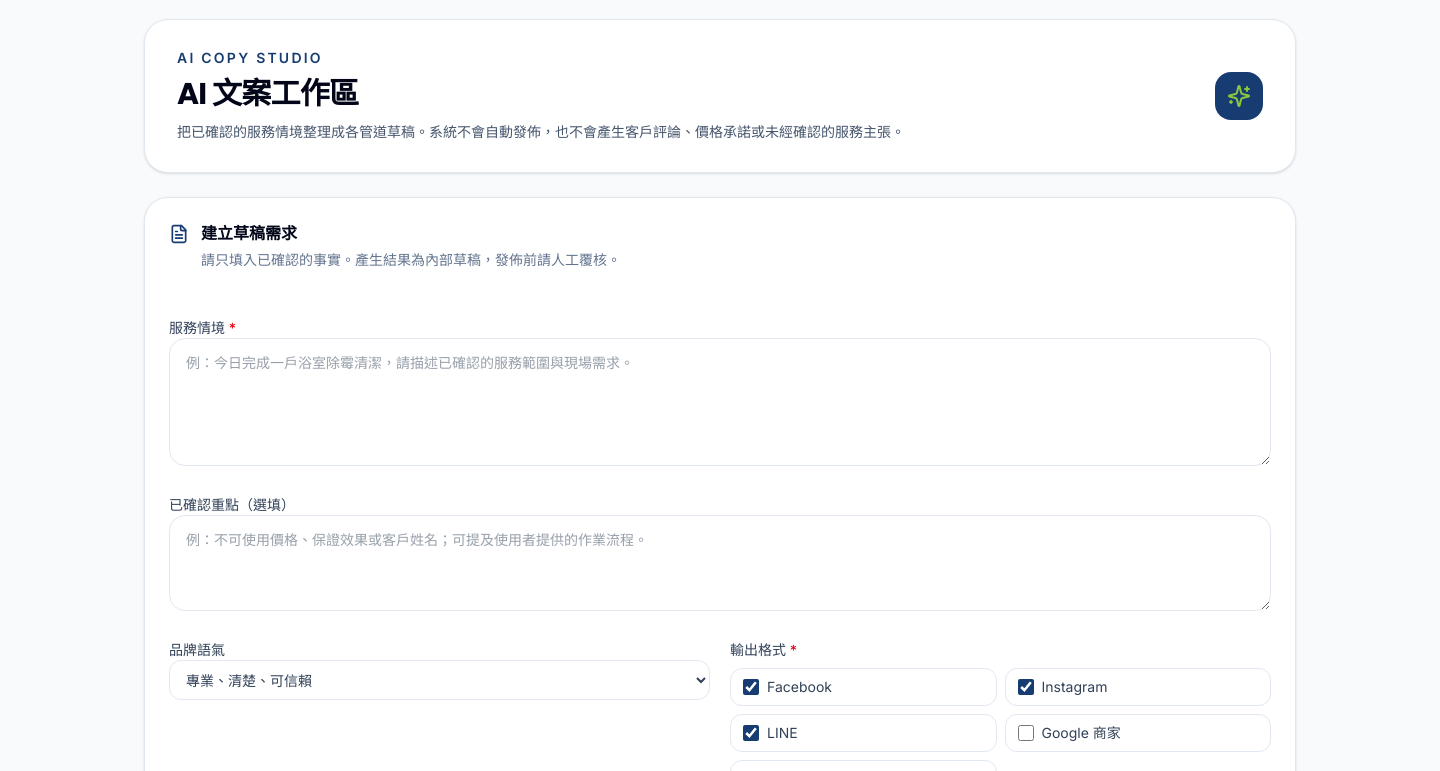
it: CMSCopywriting › 在生成服務失敗時顯示明確錯誤提示，且不呈現成功或舊草稿狀態
Type "完成已確認的浴室清潔服務。" into the text box labelled "服務情境 *" at [720, 402], box [169,338,1271,466]
(page scrolled)
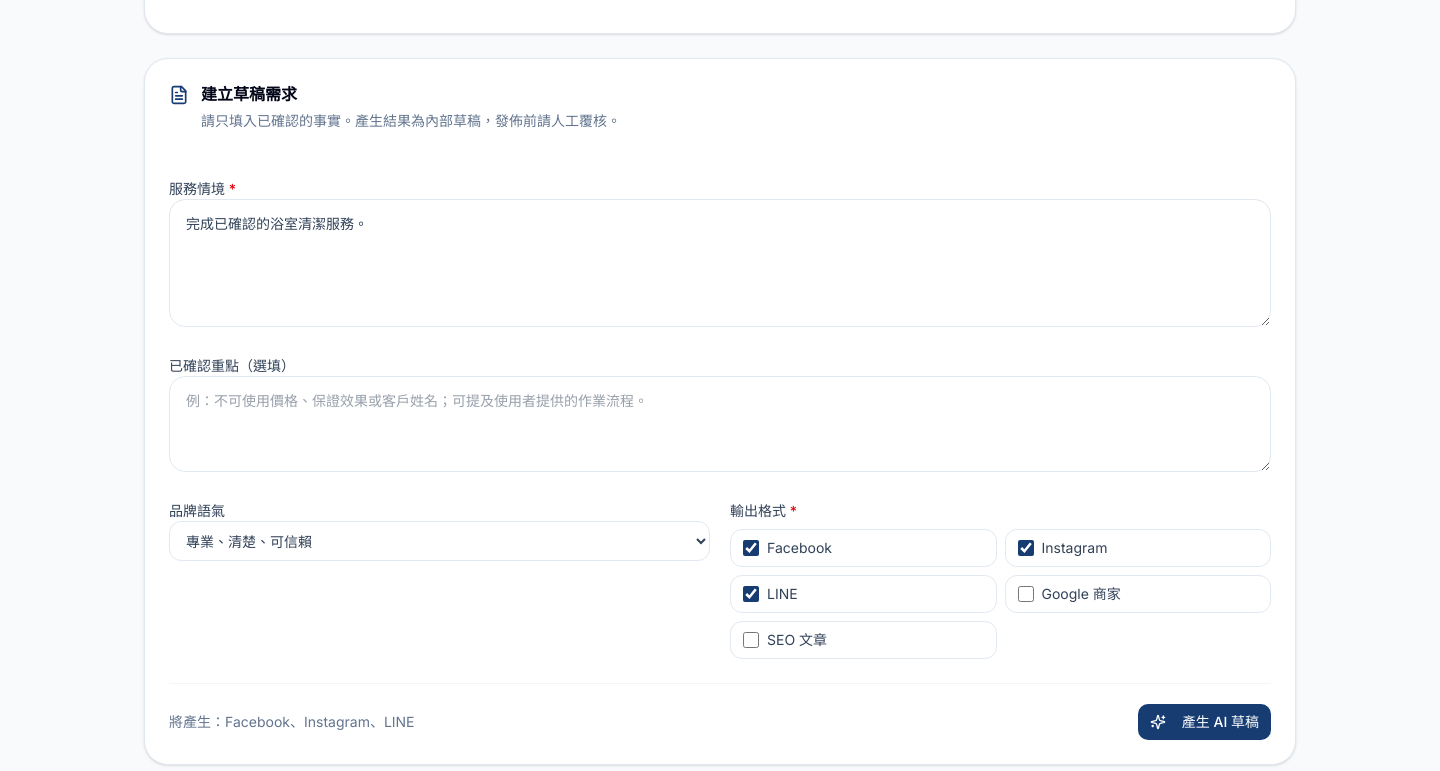
Click the button "產生 AI 草稿" at [1204, 722], box [1138,704,1271,740]
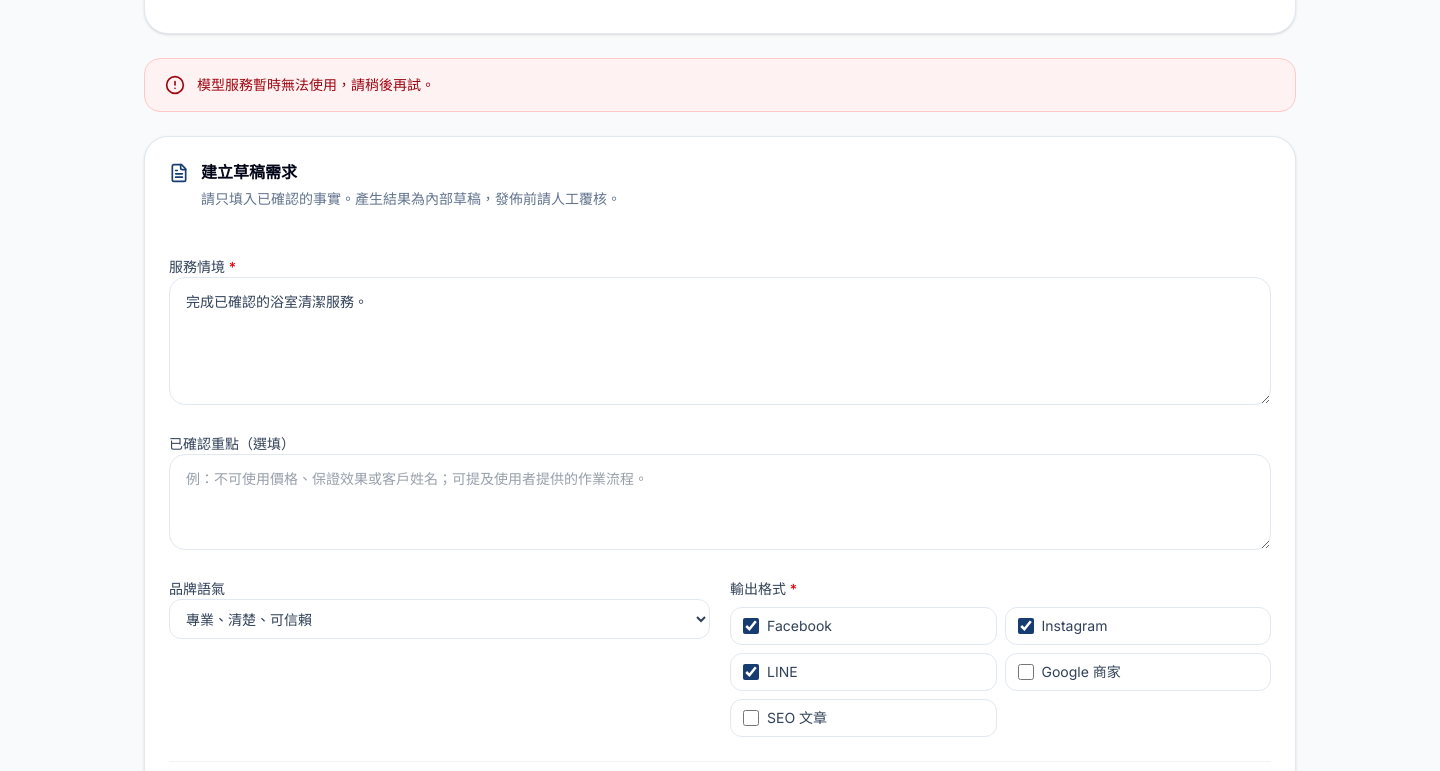
Check: the message shows "模型服務暫時無法使用", box [197,76,435,93]
